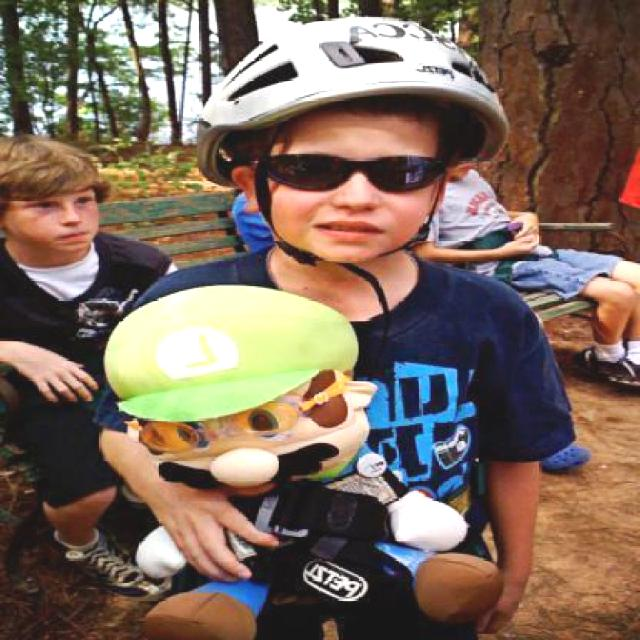face_nomask: (269, 137, 442, 249), (30, 189, 96, 249)
glasses: (138, 383, 316, 460), (228, 136, 468, 193)
hand_noglove: (156, 476, 278, 578), (5, 339, 96, 406)
head_helmet: (216, 20, 507, 138)
head_nohelmet: (0, 137, 97, 206)
person: (123, 21, 547, 640), (0, 143, 139, 587)
